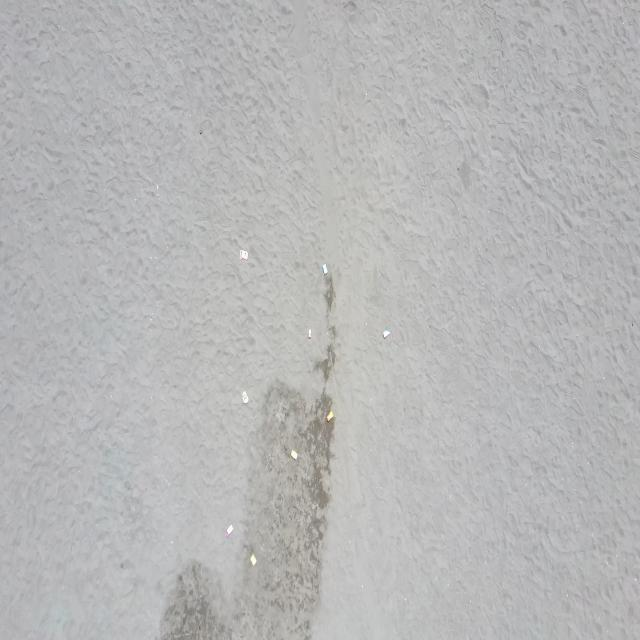Garbage: (224, 524, 232, 535), (249, 552, 256, 564), (240, 249, 247, 260), (241, 391, 247, 403), (289, 449, 296, 459), (326, 409, 332, 420), (383, 329, 390, 337), (322, 263, 326, 273), (307, 328, 310, 337)
